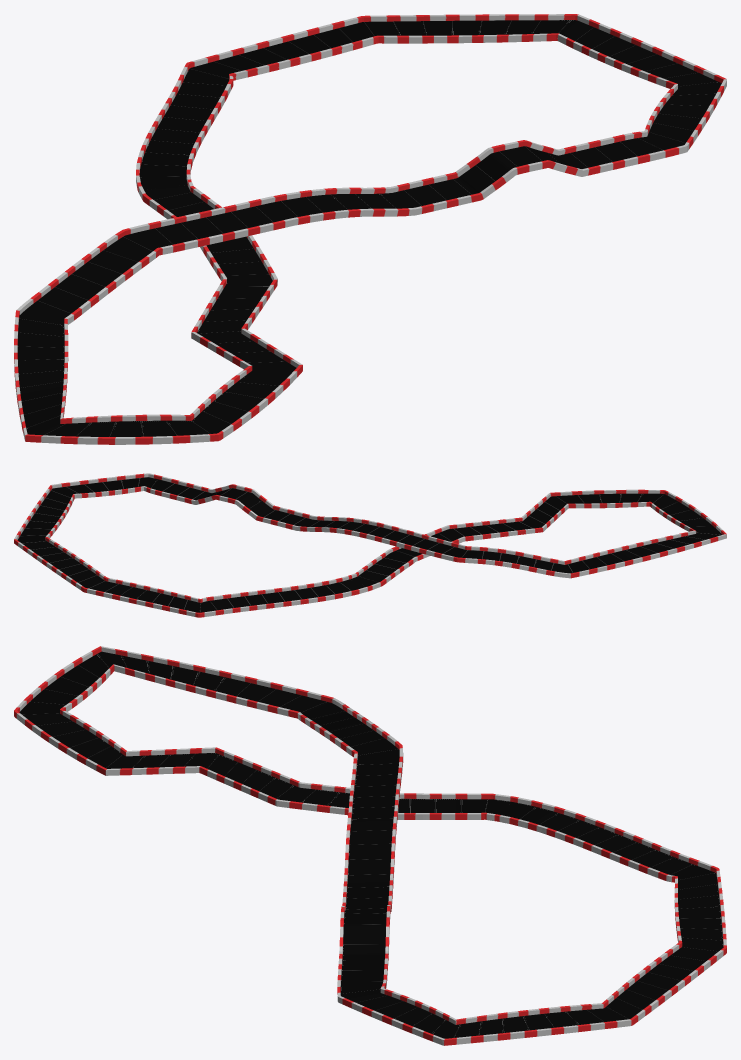
Rendered from road.glb.
3 renders of one model, top to bottom at view 1: azimuth 30°, elevation 25°; view 2: azimuth 150°, elevation 25°; view 3: azimuth 270°, elevation 25°, orthographic. The views are drawn at different scales.
Visible parts, largest first — view 1: Cube; view 2: Cube; view 3: Cube.
Part boxes in pixels (<box>): Cube: <box>14,14,726,444</box>; Cube: <box>14,473,726,617</box>; Cube: <box>14,646,726,1045</box>.
Bounding box in the file's own units: 109 × 3.03 × 83.45.
Materials: 1 (1 with a texture image).
